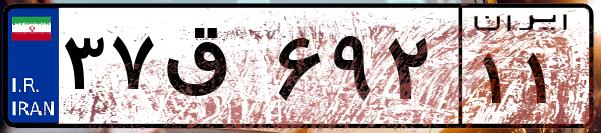1: (475, 38, 525, 113), (525, 38, 570, 115)
2: (385, 28, 445, 110)
3: (57, 26, 110, 100)
6: (270, 28, 330, 110)
7: (110, 28, 158, 98)
9: (330, 28, 385, 110)
ق: (158, 20, 270, 120)
